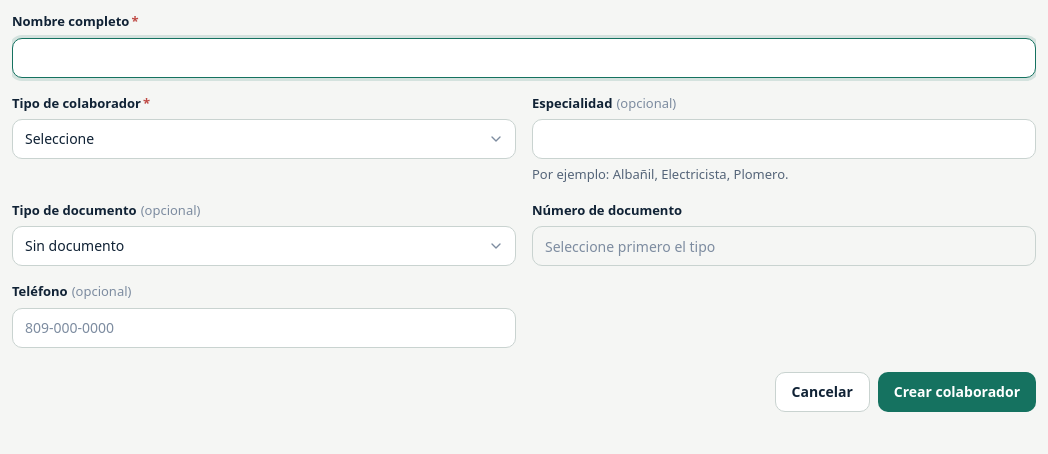
ContractorForm › requires the name and the type of collaborator
Click the button "Crear colaborador".
click(957, 392)  # box [878,372,1036,412]
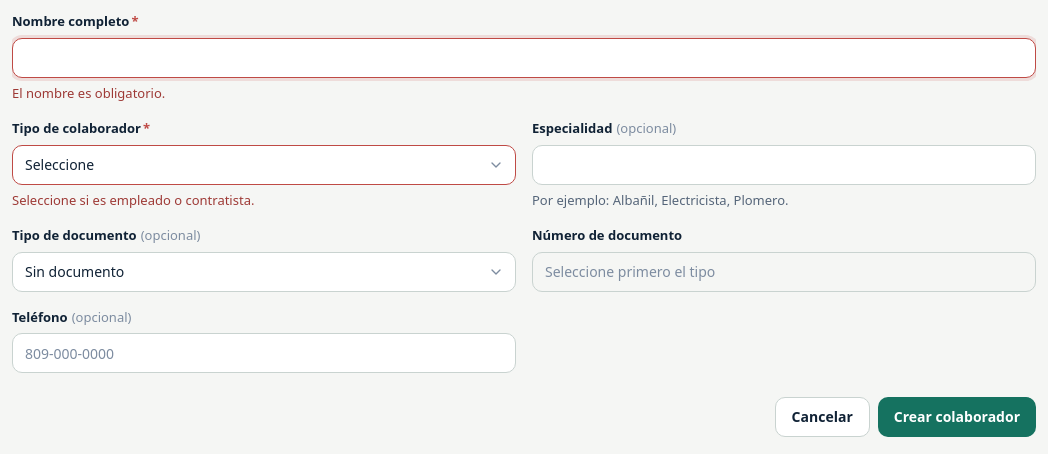
Expected: the text "El nombre es obligatorio." is shown, [12,84,165,102]
Expected: the text "Seleccione si es empleado o contratista." is shown, [12,190,254,208]
